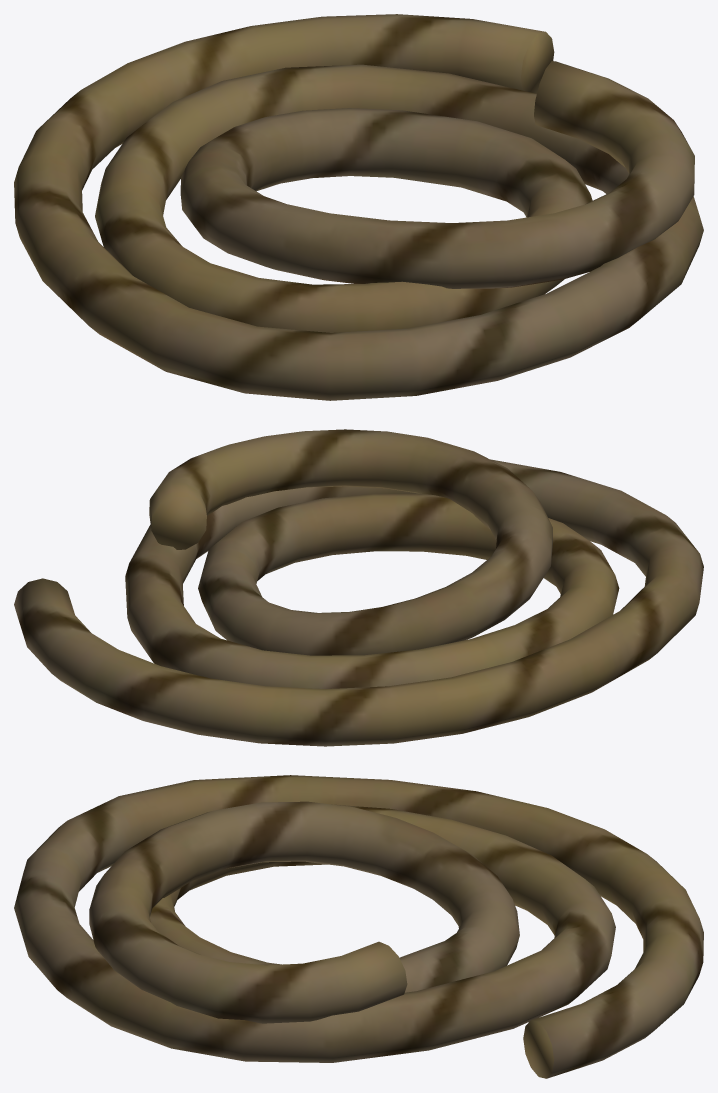
File: Rope_1.glb
3 views of the same model, one above another, from view 1: azimuth 30°, elevation 25°; view 2: azimuth 150°, elevation 25°; view 3: azimuth 270°, elevation 25° (orthographic). The views are drawn at different scales.
Parts seen in each view (by area): view 1: Rope_1; view 2: Rope_1; view 3: Rope_1.
Part boxes in pixels (box(x1,y1,x2,y2)): Rope_1: box(14, 14, 703, 400); Rope_1: box(14, 429, 703, 746); Rope_1: box(14, 775, 703, 1078).
Bounding box in the file's own units: 0.5574 × 0.0978 × 0.6063.
1 material, 1 textured.
